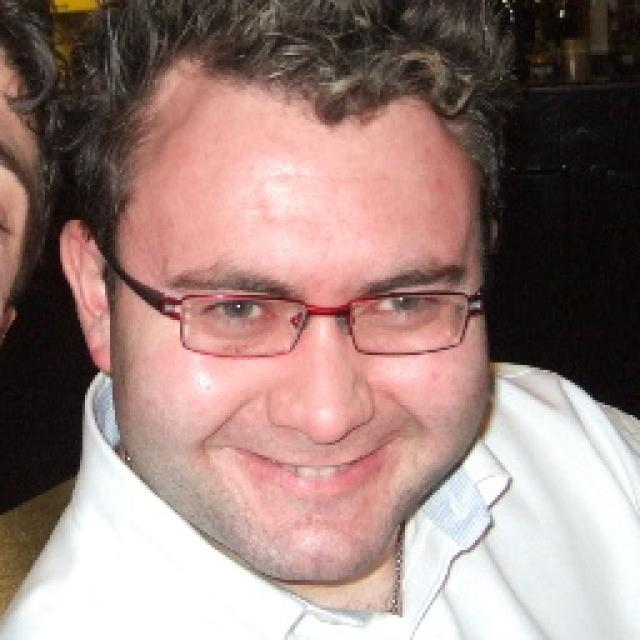earlobe: (87, 325, 116, 378)
eye: (200, 292, 277, 332), (370, 293, 449, 321)
nose: (262, 419, 369, 459)
wholeear: (55, 218, 114, 379)
